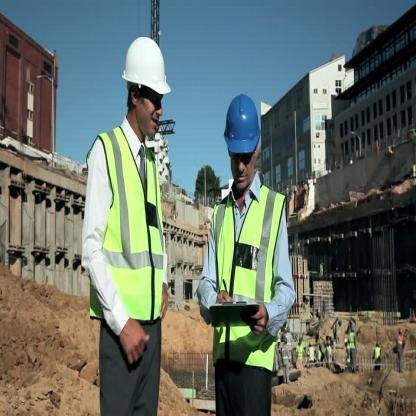capacete: (120, 35, 172, 139), (223, 94, 261, 190), (350, 324, 355, 332), (310, 340, 312, 348)
colete_refletivo: (198, 177, 300, 373), (83, 122, 168, 317), (308, 346, 314, 361), (349, 334, 355, 348)
